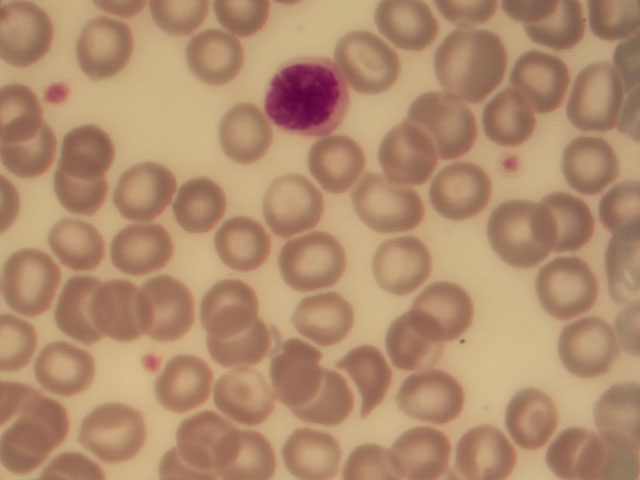Platelets: (42, 77, 69, 111), (501, 151, 522, 178), (138, 351, 161, 374)
RBC: (72, 18, 134, 83), (187, 28, 249, 93), (211, 100, 273, 165), (169, 178, 231, 243), (112, 160, 174, 225), (58, 114, 120, 179), (55, 157, 117, 222), (43, 211, 105, 276), (45, 275, 107, 340), (86, 276, 148, 341), (140, 272, 202, 337), (114, 219, 176, 284), (209, 211, 271, 276), (195, 274, 257, 339), (207, 311, 269, 376), (31, 335, 93, 400), (153, 350, 215, 415), (218, 363, 280, 428), (265, 342, 327, 407), (297, 369, 359, 434), (296, 287, 358, 352), (286, 229, 348, 294), (265, 176, 327, 241), (302, 125, 364, 190), (355, 169, 417, 234), (379, 122, 441, 187), (406, 89, 468, 154), (337, 35, 399, 100), (370, 1, 432, 66), (431, 28, 493, 93), (484, 84, 546, 149), (500, 45, 562, 110), (562, 61, 624, 126), (562, 133, 624, 198), (539, 184, 601, 249), (487, 196, 549, 261), (419, 157, 481, 222), (419, 287, 481, 352), (388, 310, 450, 375), (371, 236, 433, 301), (532, 254, 594, 319), (558, 316, 620, 381), (558, 415, 620, 480), (506, 381, 568, 446), (455, 415, 517, 480), (389, 415, 451, 480), (403, 370, 465, 435), (344, 337, 406, 402), (286, 415, 348, 480), (205, 415, 267, 480), (170, 415, 232, 480), (83, 398, 145, 463), (16, 392, 78, 457), (1, 117, 62, 182), (1, 252, 62, 317), (1, 1, 62, 65)
WBC: (265, 55, 356, 140)
